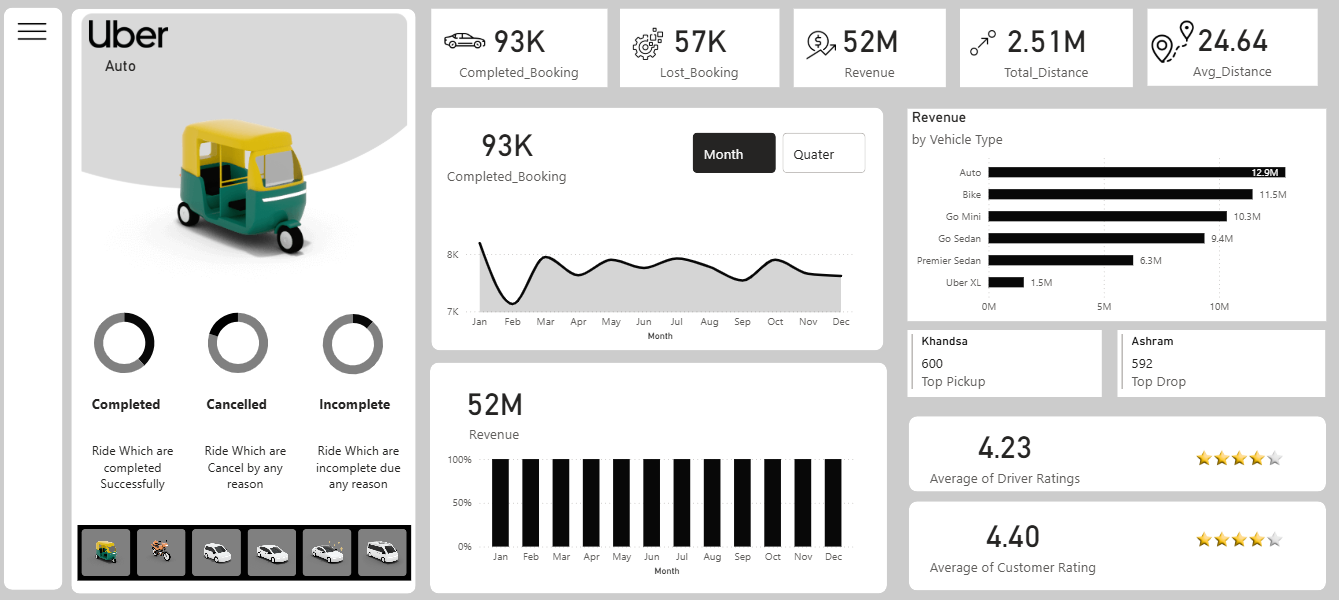

This screenshot's page, from the dashboard's own definition file:
{"tool":"powerbi","page":{"name":"Overview","canvas":[1599,720],"ordinal":1},"visuals":[{"type":"shape","box":[515,128.3,540,290],"z":0},{"type":"shape","box":[512.9,432.9,545.7,275.7],"z":1000},{"type":"shape","box":[3.3,8.3,70,696.7],"z":2000},{"type":"image","box":[0,11.4,78.6,52.9],"z":3000},{"type":"shape","box":[85.7,10,411.4,698.6],"z":4000},{"type":"image","box":[92.5,0,398.8,396.2],"z":5000},{"type":"image","box":[91.2,20,125,42.5],"z":6000},{"type":"card","fields":{"Values":["_Measures.Completed_Booking"]},"box":[515,10,210,93.3],"z":7000},{"type":"card","fields":{"Values":["_Measures.Lost_Booking"]},"box":[740,10,190,93.3],"z":8000},{"type":"card","fields":{"Values":["_Measures.Total_Booking"]},"box":[948.3,10,181.7,93.3],"z":9000},{"type":"card","fields":{"Values":["_Measures.Total_Distance"]},"box":[1146.7,10,206.7,93.3],"z":10000},{"type":"card","fields":{"Values":["_Measures.Avg_Distance"]},"box":[1370,10,203.3,91.7],"z":11000},{"type":"advancedSlicerVisual","fields":{"Values":["Veh_IMG.Vehicle Type"]},"box":[92.5,627.5,398.8,66.2],"z":12000},{"type":"cardVisual","fields":{"Data":["Min(Veh_IMG.Img)"]},"box":[100,40,384.3,352.9],"z":13000},{"type":"card","fields":{"Values":["Min(Veh_IMG.Vehicle Type)"]},"box":[103.8,57.5,78.8,42.5],"z":14000},{"type":"stackedAreaChart","fields":{"Category":["Calendar.Month"],"Y":["_Measures.Completed_Booking"]},"box":[528.3,255,496.7,156.7],"z":15000},{"type":"hundredPercentStackedColumnChart","fields":{"Category":["Calendar.Month"],"Y":["Sum(Uber.Booking Value)"]},"box":[528.3,535,496.7,158.3],"z":16000},{"type":"advancedSlicerVisual","fields":{"Values":["Date Axis.Date Axis"]},"box":[821.7,153.3,216.7,58.3],"z":17000},{"type":"card","fields":{"Values":["_Measures.Completed_Booking"]},"box":[518.3,135,175,93.3],"z":18000},{"type":"card","fields":{"Values":["_Measures.Total_Booking"]},"box":[520,443.3,141.7,93.3],"z":19000},{"type":"clusteredBarChart","title":"Revenue","fields":{"Y":["_Measures.Revenue"],"Category":["Uber.vs_Type"]},"box":[1083.3,130,500,253.3],"z":20000},{"type":"image","box":[958.3,30,45,46.7],"z":21000},{"type":"image","box":[1153.3,23.3,40,55],"z":22000},{"type":"image","box":[745,28.3,58.3,48.3],"z":23000},{"type":"image","box":[520,20,71.7,58.3],"z":24000},{"type":"image","box":[1370,3.3,60,93.3],"z":25000},{"type":"multiRowCard","fields":{"Values":["Uber.Pickup Location","_Measures.Completed_Booking"]},"box":[1083.3,393.3,231.7,80],"z":26000},{"type":"multiRowCard","fields":{"Values":["Uber.Drop Location","_Measures.Completed_Booking"]},"box":[1335,393.3,248.3,80],"z":27000},{"type":"shape","box":[1085,496.7,498.3,90],"z":28000},{"type":"shape","box":[1085,598.3,498.3,106.7],"z":29000},{"type":"card","fields":{"Values":["Avg(Uber.Driver Ratings)"]},"box":[1085,496.7,230,90],"z":30000},{"type":"card","fields":{"Values":["Avg(Uber.Customer Rating)"]},"box":[1095,605,228.3,88.3],"z":31000},{"type":"image","box":[1388.3,496.7,183.3,116.7],"z":32000},{"type":"image","box":[1388.3,593.3,183.3,116.7],"z":33000},{"type":"donutChart","fields":{"Y":["_Measures.Booking_Count","_Measures.Booking_Remove_Status_Filter"]},"box":[98.6,360,100,100],"z":34000},{"type":"donutChart","fields":{"Y":["_Measures.Booking_Remove_Status_Filter","_Measures.Booking_Count"]},"box":[235,360,100,100],"z":35000},{"type":"donutChart","fields":{"Y":["_Measures.Booking_Count","_Measures.Booking_Remove_Status_Filter"]},"box":[370.9,360.9,100,100],"z":36000},{"type":"textbox","box":[100,465,116.7,148.3],"z":37000},{"type":"textbox","box":[233.3,465,120,150],"z":38000},{"type":"textbox","box":[371.2,465,112.5,148.8],"z":39000}]}

Visuals, with their boxes in screenshot pixels (x1, y1, x2, y2), scaled from the page's 1599x720 canvas onto the 1339x600 screenshot:
shape: (431,107,883,349)
shape: (430,361,886,590)
shape: (3,7,61,588)
image: (0,10,66,54)
shape: (72,8,416,590)
image: (77,0,411,330)
image: (76,17,181,52)
card - _Measures.Completed_Booking: (431,8,607,86)
card - _Measures.Lost_Booking: (620,8,779,86)
card - _Measures.Total_Booking: (794,8,946,86)
card - _Measures.Total_Distance: (960,8,1133,86)
card - _Measures.Avg_Distance: (1147,8,1317,85)
advancedSlicerVisual - Veh_IMG.Vehicle Type: (77,523,411,578)
cardVisual - Min(Veh_IMG.Img): (84,33,406,327)
card - Min(Veh_IMG.Vehicle Type): (87,48,153,83)
stackedAreaChart - Calendar.Month x _Measures.Completed_Booking: (442,212,858,343)
hundredPercentStackedColumnChart - Calendar.Month x Sum(Uber.Booking Value): (442,446,858,578)
advancedSlicerVisual - Date Axis.Date Axis: (688,128,870,176)
card - _Measures.Completed_Booking: (434,112,581,190)
card - _Measures.Total_Booking: (435,369,554,447)
"Revenue" clusteredBarChart: (907,108,1326,319)
image: (802,25,840,64)
image: (966,19,999,65)
image: (624,24,673,64)
image: (435,17,495,65)
image: (1147,3,1197,80)
multiRowCard - Uber.Pickup Location x _Measures.Completed_Booking: (907,328,1101,394)
multiRowCard - Uber.Drop Location x _Measures.Completed_Booking: (1118,328,1326,394)
shape: (909,414,1326,489)
shape: (909,499,1326,588)
card - Avg(Uber.Driver Ratings): (909,414,1101,489)
card - Avg(Uber.Customer Rating): (917,504,1108,578)
image: (1163,414,1316,511)
image: (1163,494,1316,592)
donutChart - _Measures.Booking_Count x _Measures.Booking_Remove_Status_Filter: (83,300,166,383)
donutChart - _Measures.Booking_Remove_Status_Filter x _Measures.Booking_Count: (197,300,281,383)
donutChart - _Measures.Booking_Count x _Measures.Booking_Remove_Status_Filter: (311,301,394,384)
textbox: (84,388,181,511)
textbox: (195,388,296,512)
textbox: (311,388,405,512)
